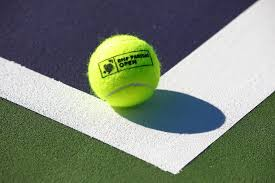tennis_ball: (87, 33, 160, 108)
